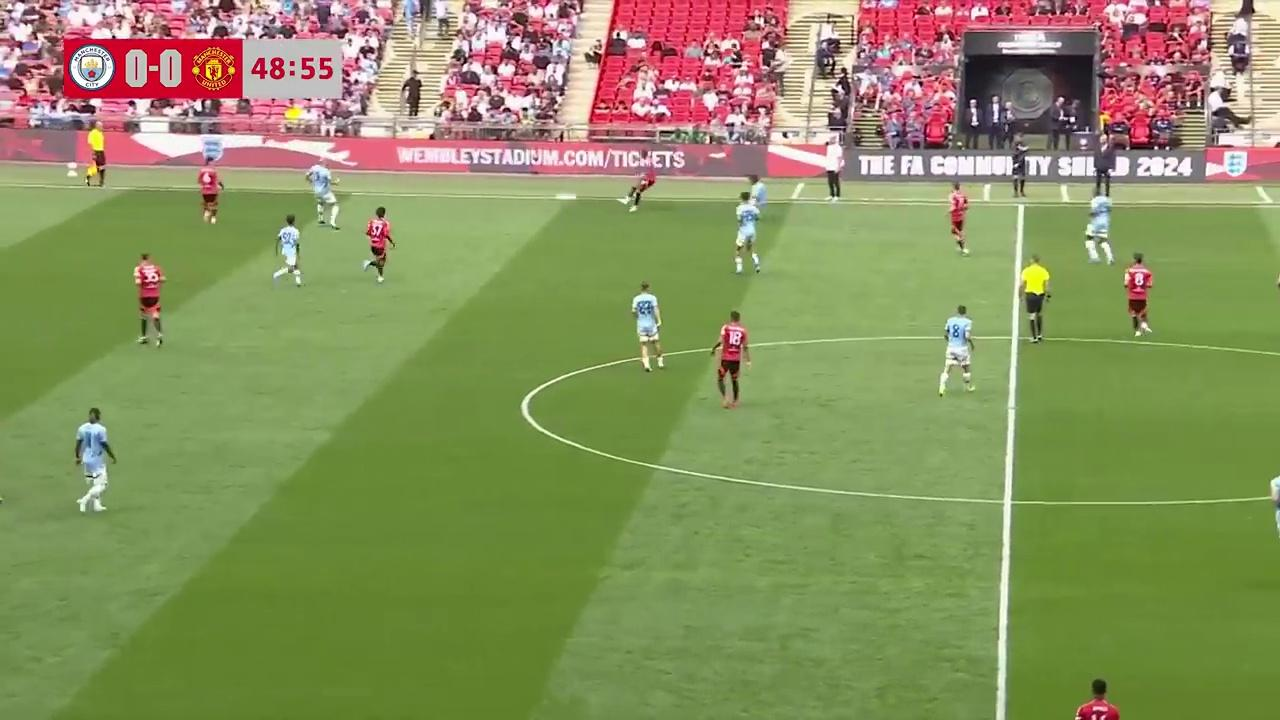player: (73, 408, 116, 513), (710, 310, 751, 408), (938, 303, 976, 397), (631, 280, 666, 372), (134, 253, 165, 348), (1123, 252, 1153, 337), (272, 214, 303, 288), (364, 207, 394, 283), (733, 193, 761, 274), (1085, 186, 1114, 264), (306, 164, 338, 229), (1075, 677, 1119, 720), (946, 182, 970, 255), (197, 163, 223, 224), (623, 163, 655, 210), (746, 176, 767, 232), (1270, 470, 1280, 548)
referee: (1020, 254, 1050, 343), (84, 127, 106, 189)
